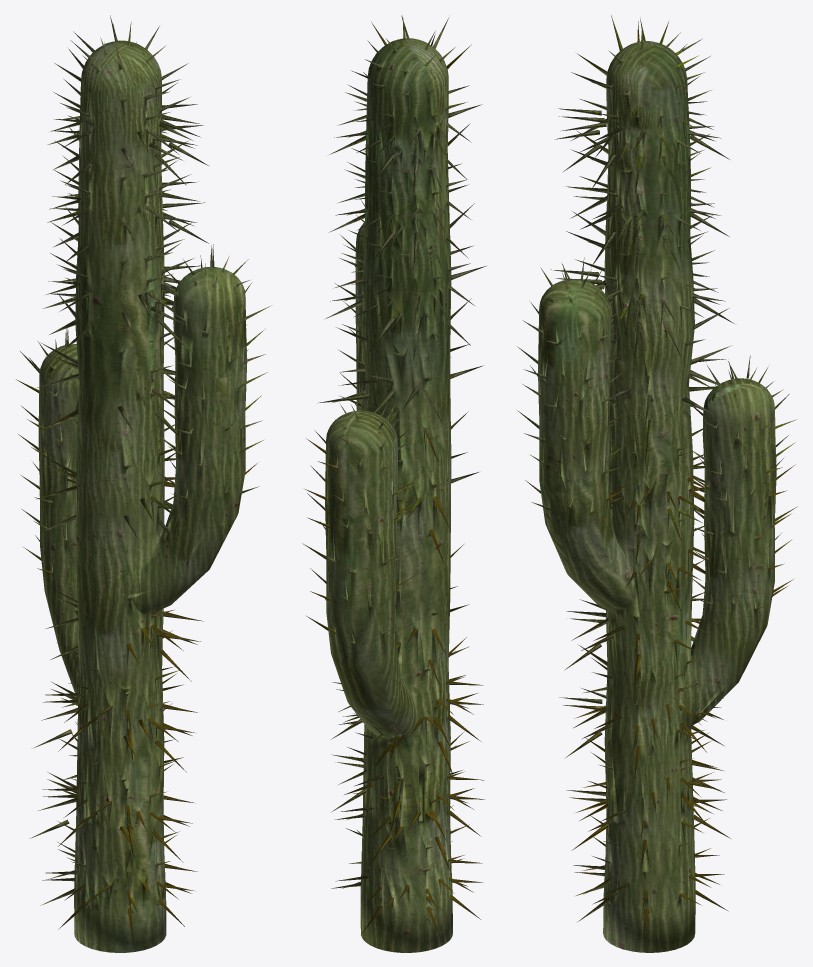
3 views of the same model, side by side, from view 1: azimuth 30°, elevation 25°; view 2: azimuth 150°, elevation 25°; view 3: azimuth 270°, elevation 25° (orthographic).
Parts seen in each view (by area): view 1: Cactus 1; view 2: Cactus 1; view 3: Cactus 1.
Part boxes in pixels (x1,y1,x2,y2): Cactus 1: (16, 15, 271, 952); Cactus 1: (302, 15, 485, 952); Cactus 1: (517, 15, 797, 952).
Bounding box in the file's own units: 9.17 × 47.15 × 13.24.
